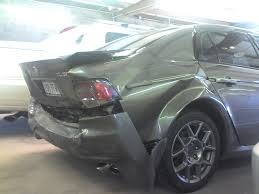Dent: (141, 73, 208, 145), (28, 96, 131, 138)
